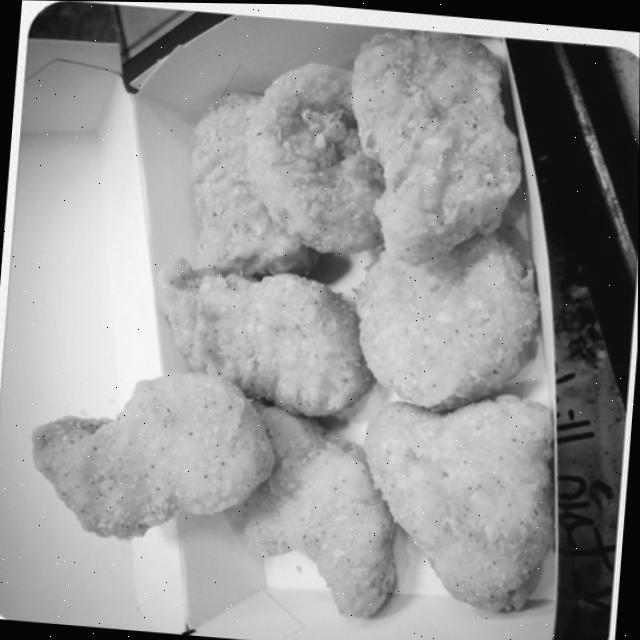鸡肉料理 含炸鸡: (26, 5, 606, 636)
